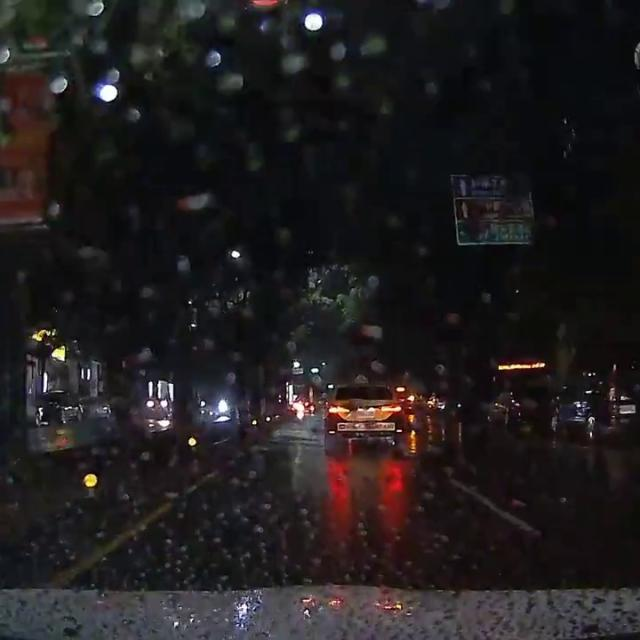Car: (314, 382, 413, 455), (32, 387, 82, 426)
